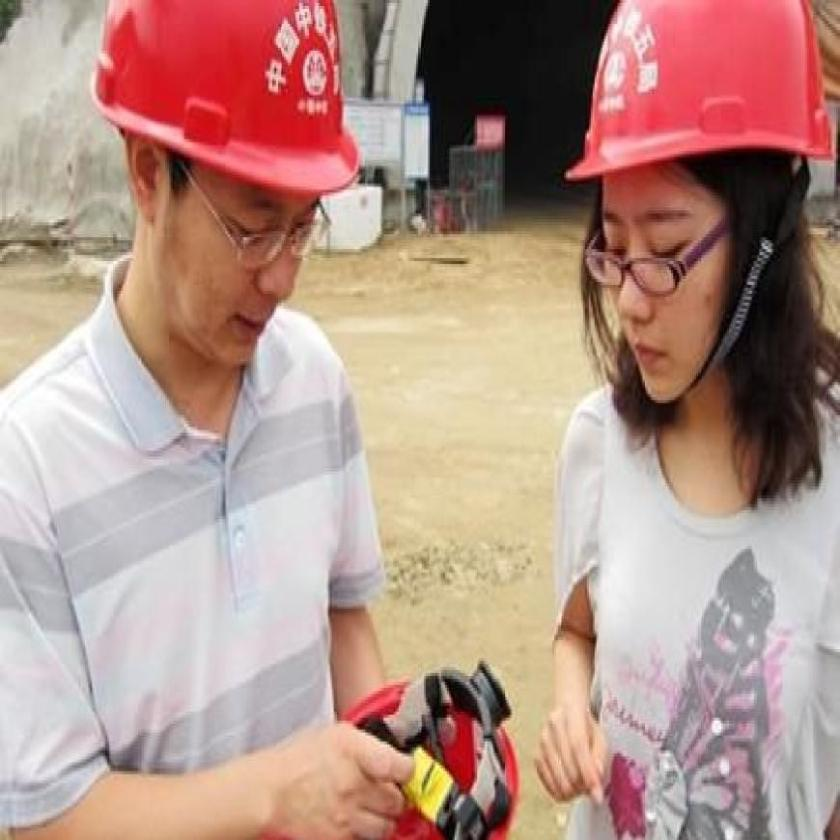Con_casco: (562, 0, 828, 425), (92, 0, 362, 367)
